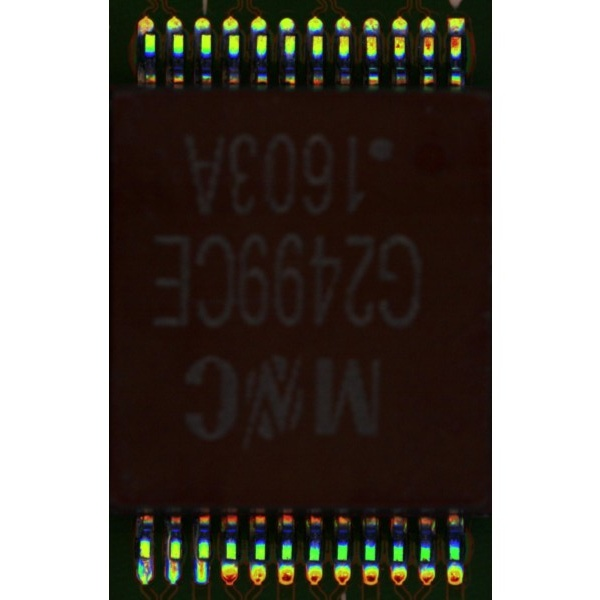Bad_podu: (169, 553, 176, 572), (198, 550, 204, 572)
Bad_qiaojiao: (166, 530, 169, 559)
